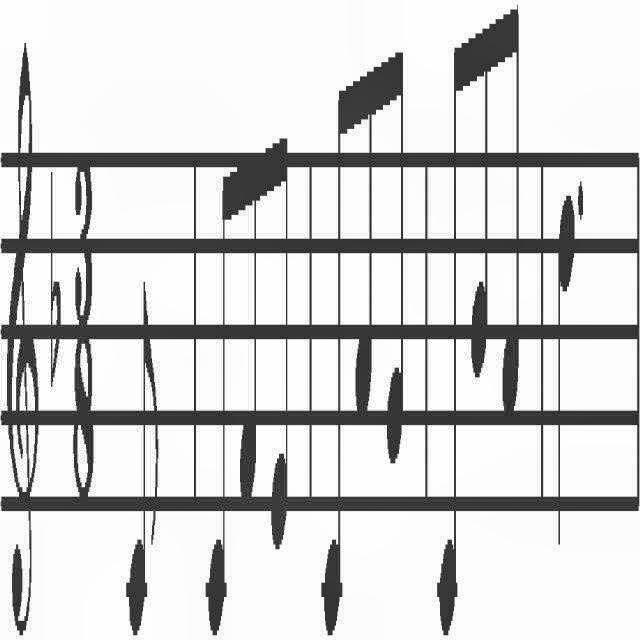Bass-clef: (3, 31, 40, 640)
Bemol: (46, 159, 62, 403)
Eighth-note: (436, 6, 464, 640), (118, 252, 162, 640), (318, 67, 347, 640), (200, 168, 232, 640), (496, 0, 528, 448), (266, 121, 294, 595), (380, 50, 410, 464), (466, 12, 492, 410), (236, 147, 260, 525), (354, 66, 376, 442)
Quarter-note: (554, 172, 576, 576)
